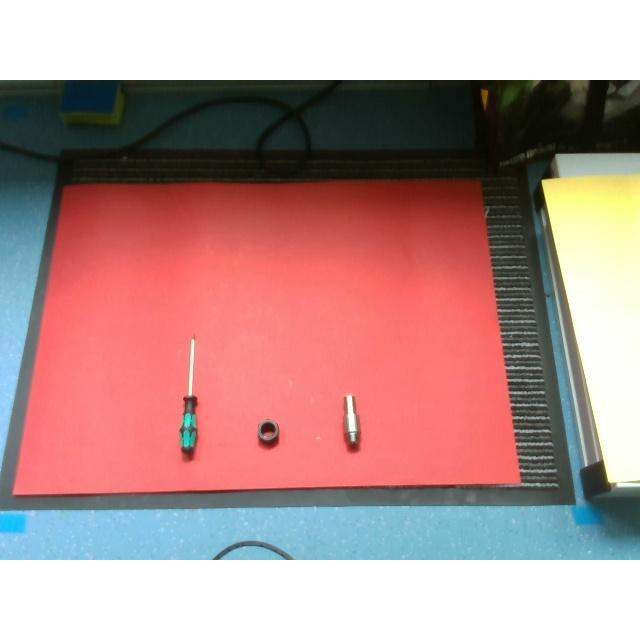Axis2: (344, 394, 360, 451)
M20: (256, 421, 278, 447)
Screwdriver: (179, 334, 197, 458)
